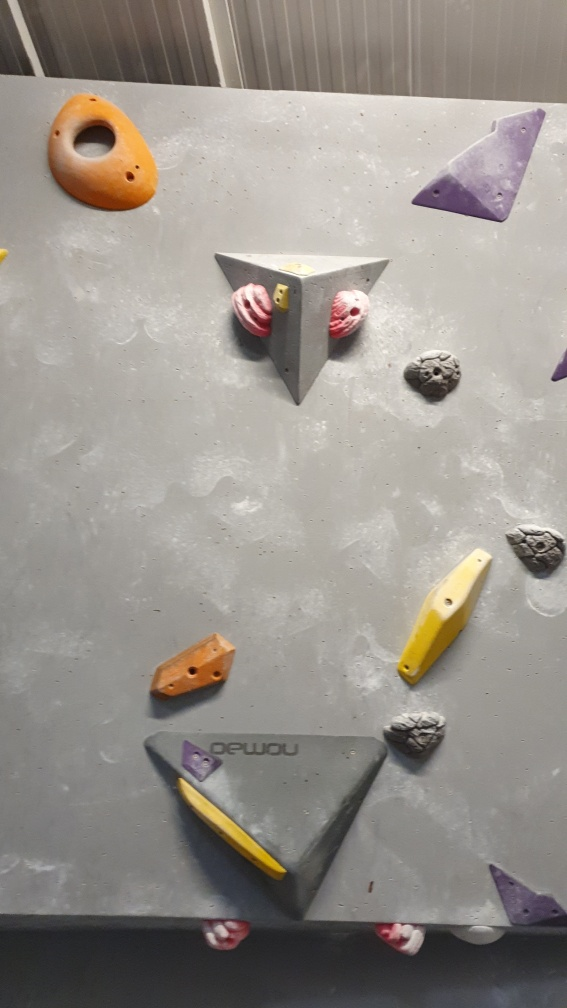Jug: (503, 518, 565, 582), (380, 709, 450, 764), (399, 342, 462, 403), (227, 278, 273, 343), (328, 288, 371, 339), (375, 918, 425, 958), (204, 924, 259, 953)
Pinch: (403, 541, 496, 693), (148, 625, 238, 709)
Pocket: (44, 89, 162, 217)
